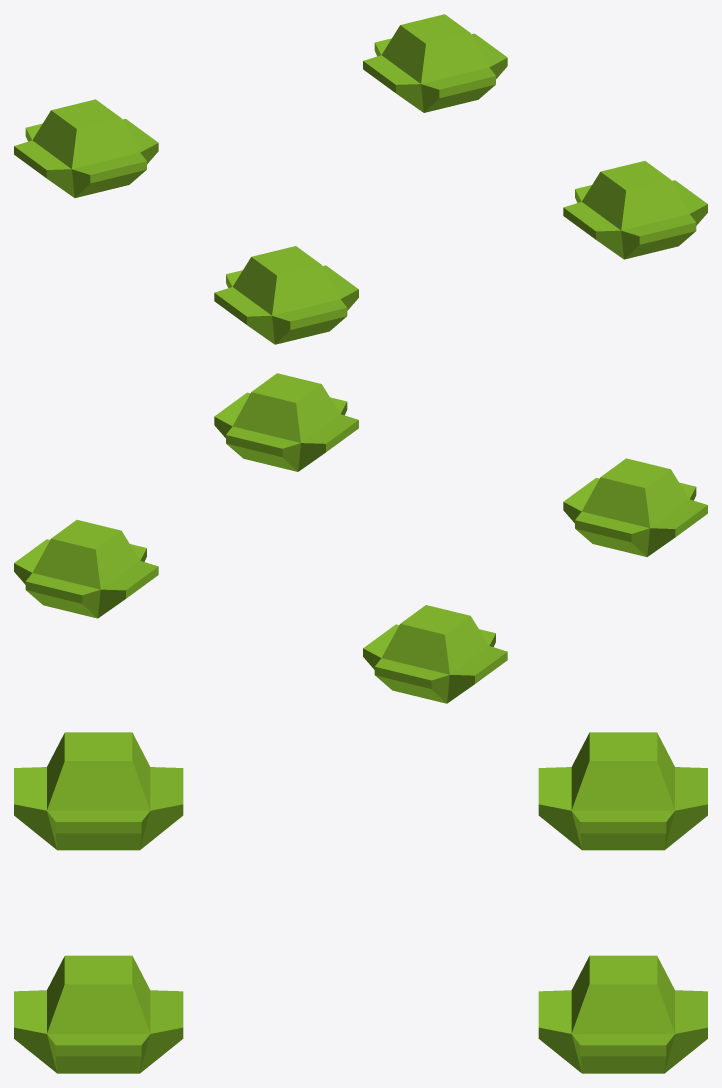
Rendered from Green_4x4.fbx.
The picture shows the model from 3 angles, top to bottom: view 1: azimuth 30°, elevation 25°; view 2: azimuth 150°, elevation 25°; view 3: azimuth 270°, elevation 25°; orthographic projection. The views are drawn at different scales.
Visible parts, largest first — view 1: Green_4x4; view 2: Green_4x4; view 3: Green_4x4.
Part boxes in pixels (bbox=[...]): Green_4x4: bbox=[14, 14, 707, 344]; Green_4x4: bbox=[14, 373, 707, 703]; Green_4x4: bbox=[14, 732, 707, 1073].
Size of the model in its own units: 396 by 54.05 by 394.
